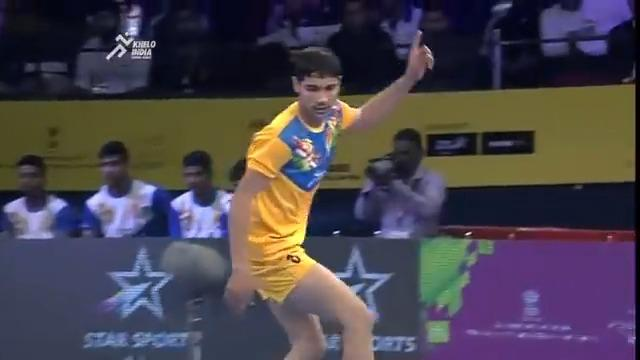Player: (78, 139, 180, 238), (0, 153, 78, 239), (168, 149, 233, 239)
Raider: (218, 29, 435, 358)
referee: (352, 127, 447, 238)
